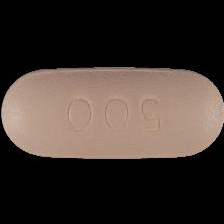50458-925: (0, 0, 224, 224)
